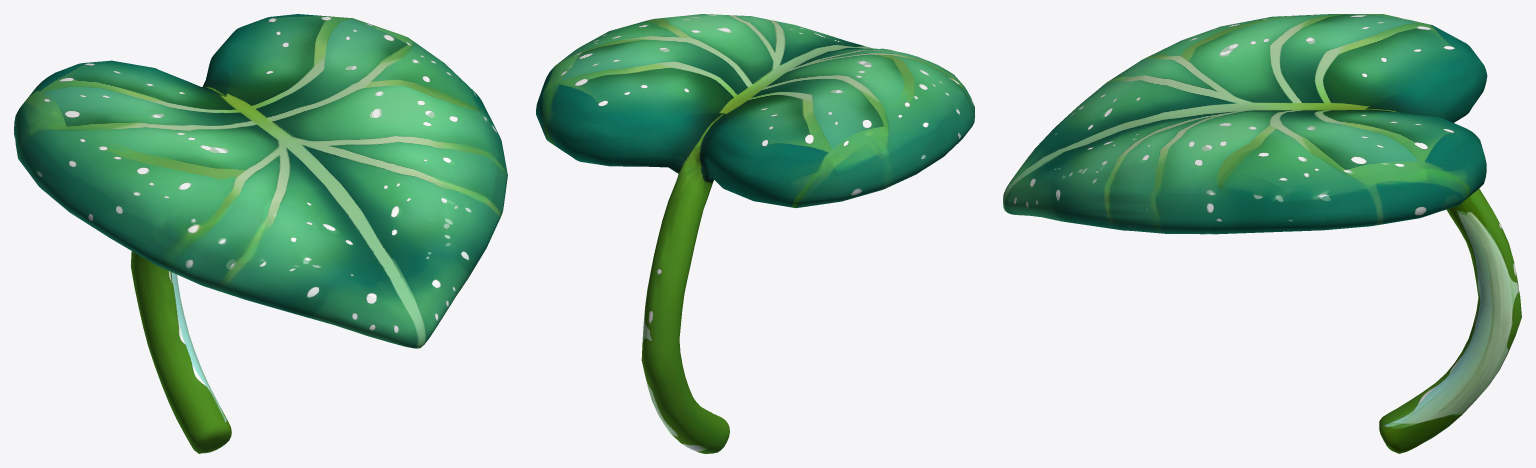
The model's file is pothos_mint_dot_34_new.glb.
3 renders of one model, left to right at view 1: azimuth 30°, elevation 25°; view 2: azimuth 150°, elevation 25°; view 3: azimuth 270°, elevation 25°, orthographic. The views are drawn at different scales.
Bounding box in the file's own units: 1.71 × 1.57 × 2.
Materials: 1 (1 with a texture image).
